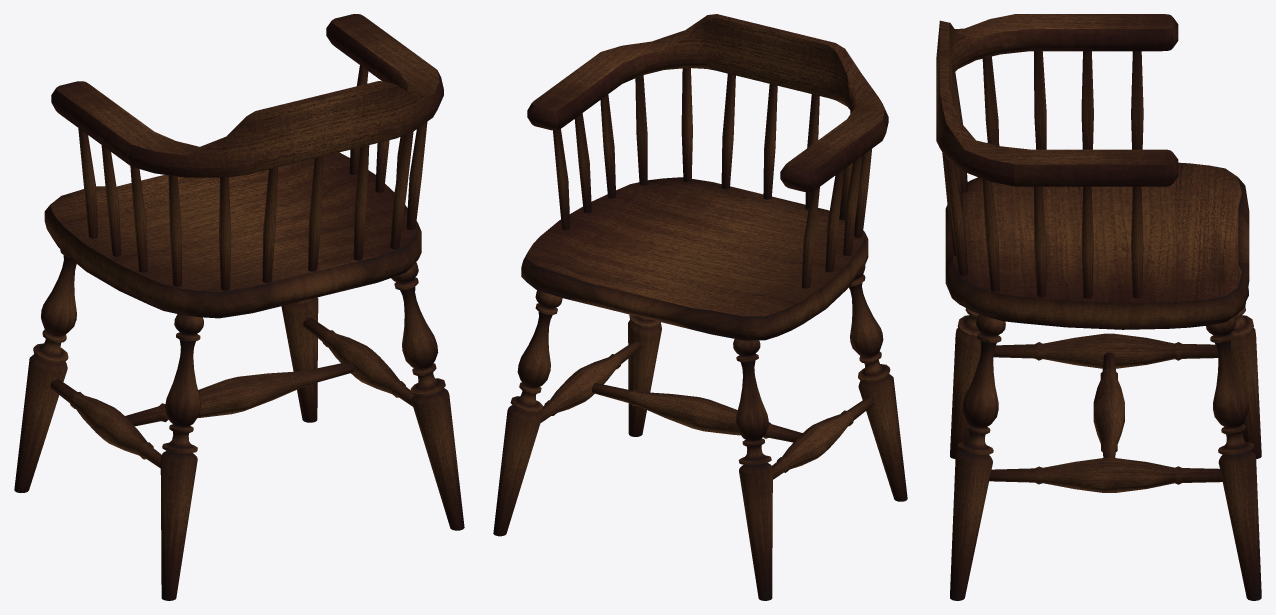
The model's file is table_chair.fbx.
The picture shows the model from 3 angles, left to right: view 1: azimuth 30°, elevation 25°; view 2: azimuth 150°, elevation 25°; view 3: azimuth 270°, elevation 25°; orthographic projection. The views are drawn at different scales.
Parts seen in each view (by area): view 1: table1; view 2: table1; view 3: table1.
Boxes of the visible parts, x1,y1,x2,y2 form: table1: (14,14,464,600); table1: (493,14,907,600); table1: (936,14,1261,600).
Size of the model in its own units: 58.41 by 83.88 by 52.31.
Materials: 1 (1 with a texture image).
